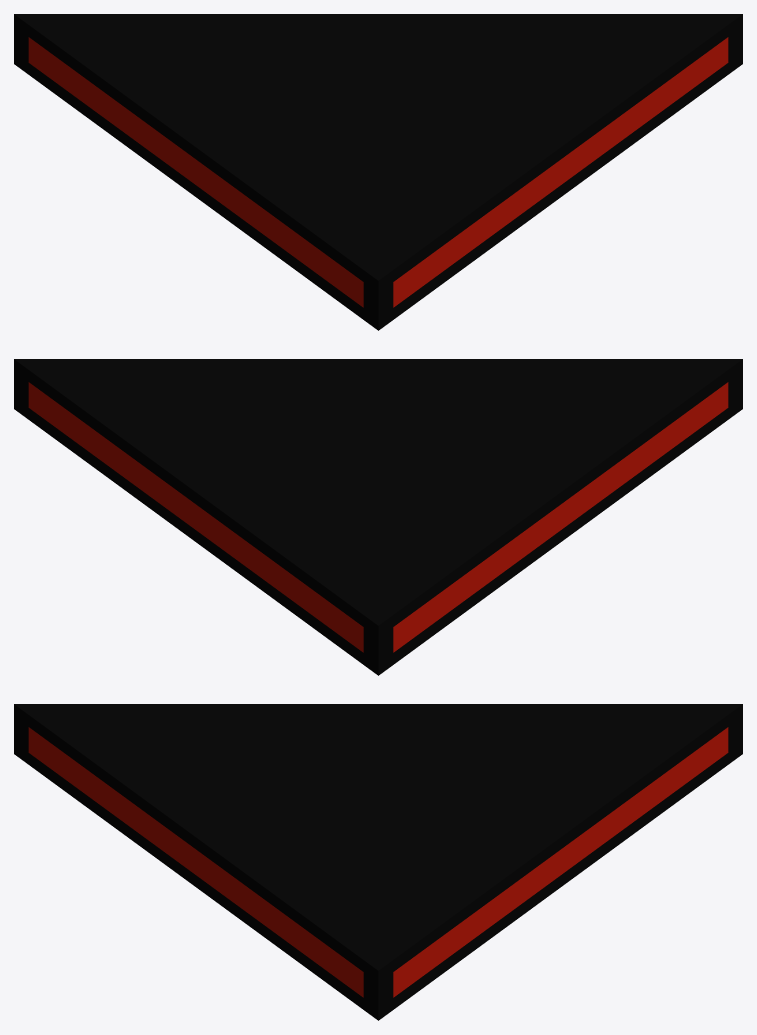
3 renders of one model, top to bottom at view 1: azimuth 30°, elevation 25°; view 2: azimuth 150°, elevation 25°; view 3: azimuth 270°, elevation 25°, orthographic.
Parts seen in each view (by area): view 1: Cylinder004; view 2: Cylinder004; view 3: Cylinder004.
Part boxes in pixels (<box>): Cylinder004: <box>14,14,742,330</box>; Cylinder004: <box>14,359,742,675</box>; Cylinder004: <box>14,704,742,1020</box>.
Size of the model in its own units: 297 by 25.89 by 343.
